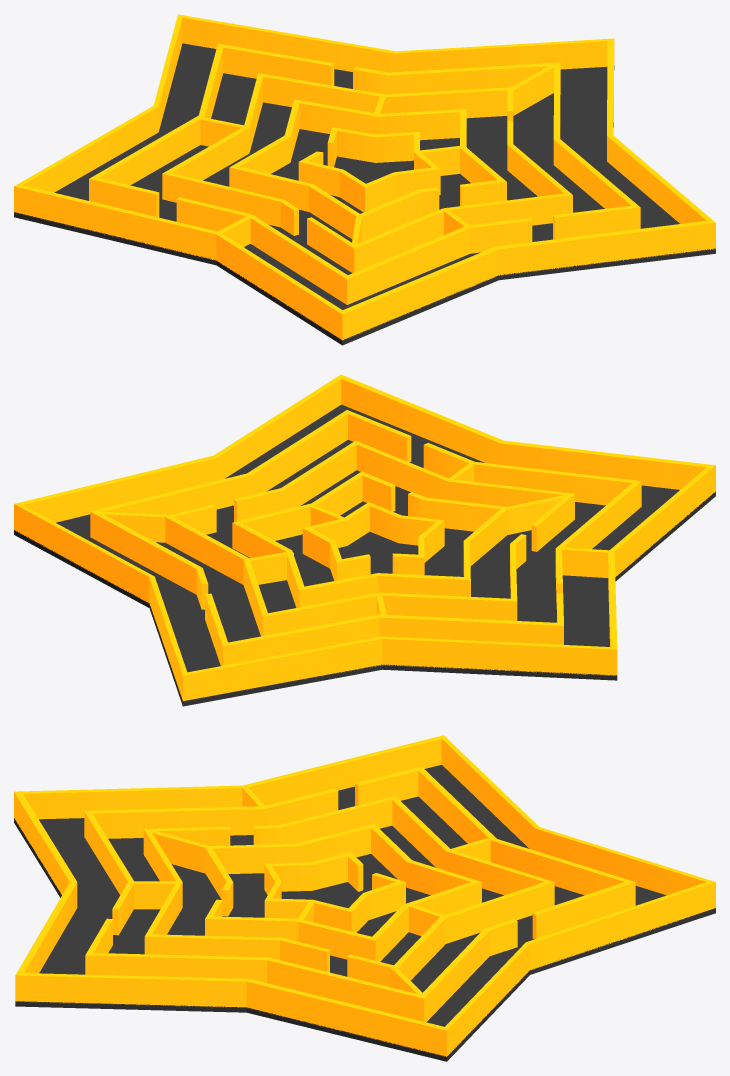
The model's file is laberinto3.fbx.
The picture shows the model from 3 angles, top to bottom: view 1: azimuth 30°, elevation 25°; view 2: azimuth 150°, elevation 25°; view 3: azimuth 270°, elevation 25°; orthographic projection.
Parts seen in each view (by area): view 1: pPrism22; view 2: pPrism22; view 3: pPrism22.
Boxes of the visible parts, x1,y1,x2,y2 form: pPrism22: (14,14,715,345); pPrism22: (14,374,715,706); pPrism22: (14,735,715,1061).
Size of the model in its own units: 23.85 by 1.17 by 23.94.
